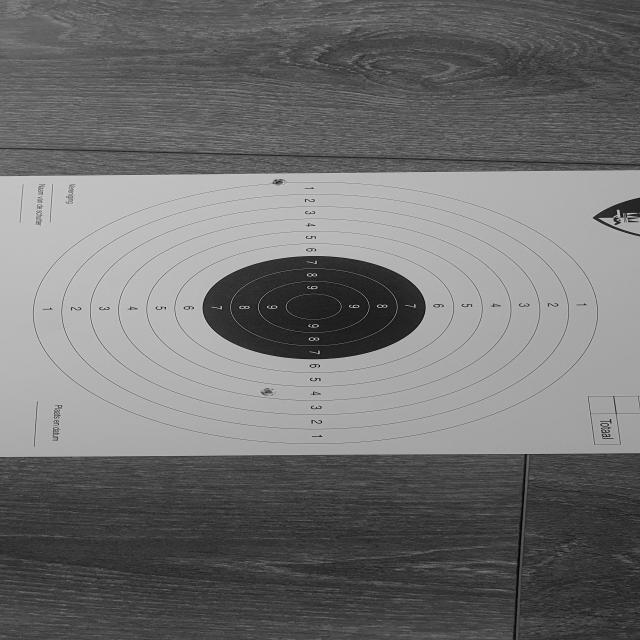1: (272, 179, 286, 186)
4: (258, 388, 278, 397)
Target: (32, 182, 602, 446)
black_contour: (204, 256, 427, 359)
